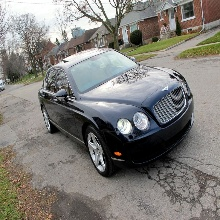no damage: (37, 47, 194, 176)
